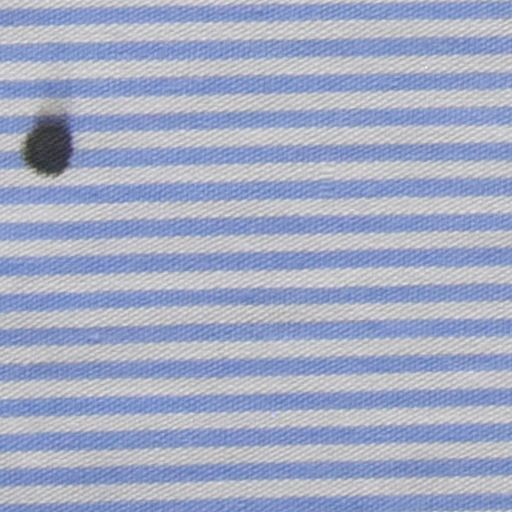defect: (24, 123, 73, 171)
